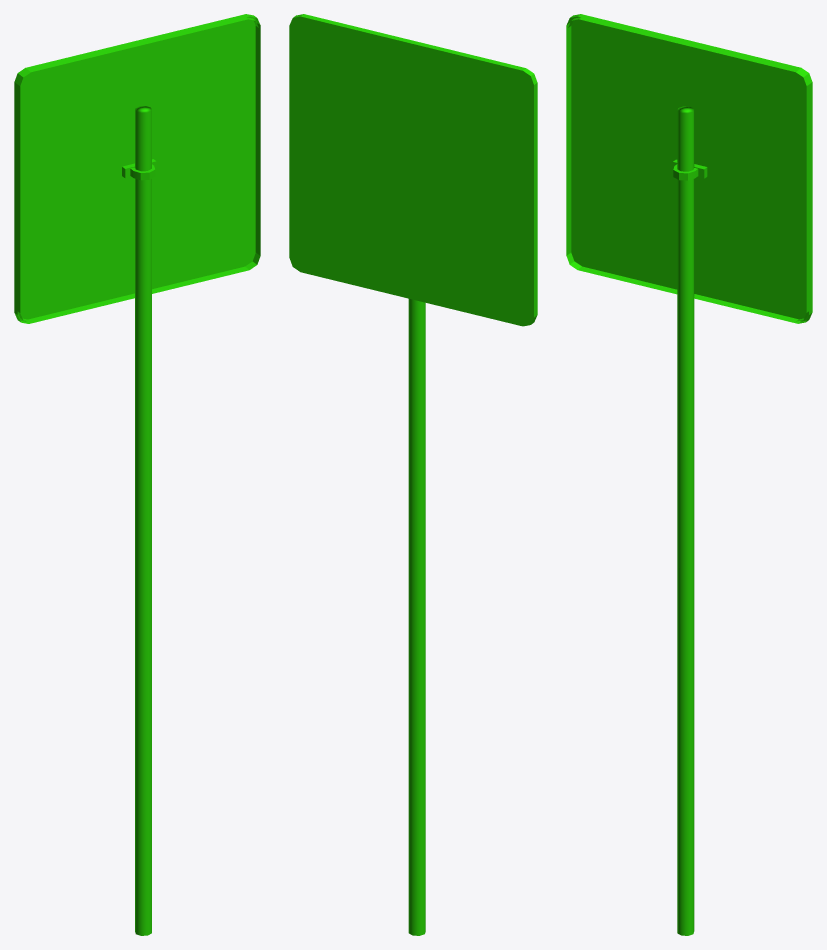
File: Road_Sign_Base_09_Lod0.fbx
The picture shows the model from 3 angles, left to right: view 1: azimuth 30°, elevation 25°; view 2: azimuth 150°, elevation 25°; view 3: azimuth 330°, elevation 25°; orthographic projection.
Parts seen in each view (by area): view 1: Road_Sign_Base_09_Lod0; view 2: Road_Sign_Base_09_Lod0; view 3: Road_Sign_Base_09_Lod0.
Part boxes in pixels (x1,y1,x2,y2): Road_Sign_Base_09_Lod0: (14,14,260,935); Road_Sign_Base_09_Lod0: (289,14,537,935); Road_Sign_Base_09_Lod0: (566,14,812,935).
Size of the model in its own units: 53.55 by 187 by 4.99.
